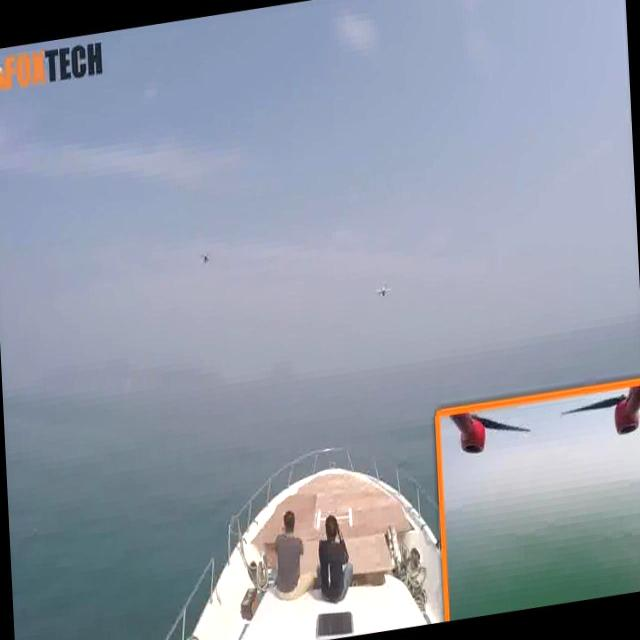drone: (370, 276, 395, 302)
